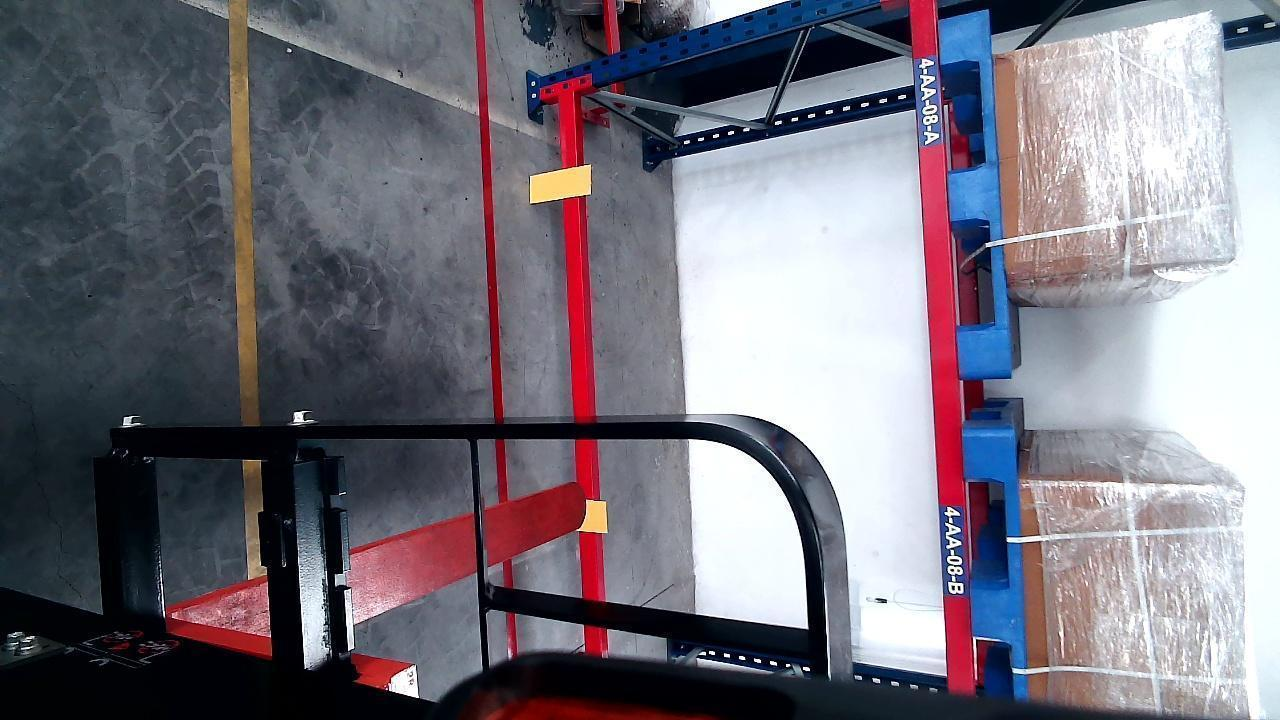red_line: (475, 0, 519, 665)
yellow_line: (231, 0, 263, 581)
